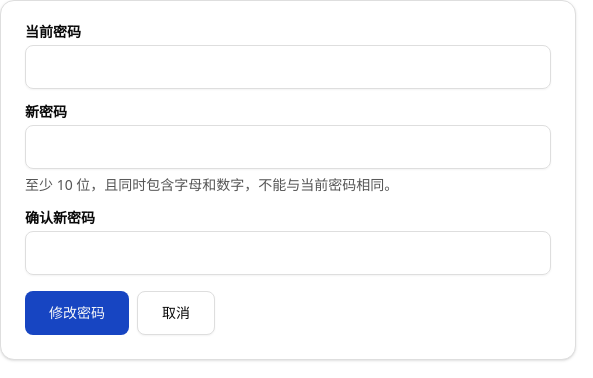
Test case: ChangePasswordForm：提交 › 提交期间按钮禁用并提示进行中（防重复提交）；结束后恢复
The width and height of the screenshot is (593, 378).
Click the button "修改密码". click: x=77, y=313
box: top-left (25, 291), bottom-right (129, 335)
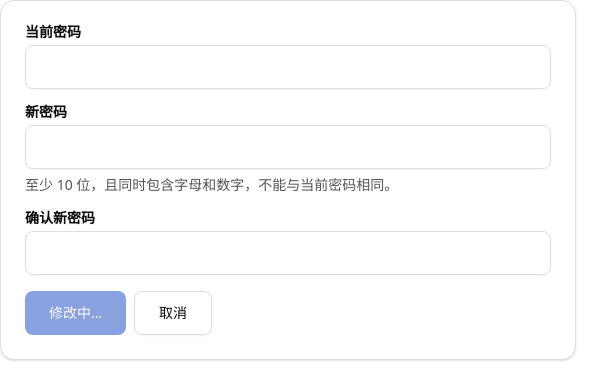
Result: the button "修改中…" is disabled
Click the button "修改中…". click: x=76, y=313
box: top-left (25, 291), bottom-right (126, 335)
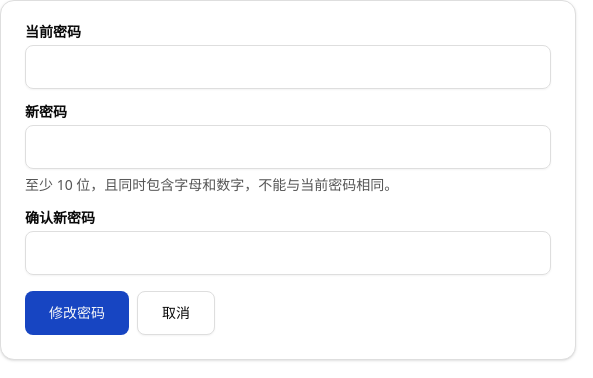
Result: the button "修改密码" is enabled at top-left (25, 291), bottom-right (129, 335)
